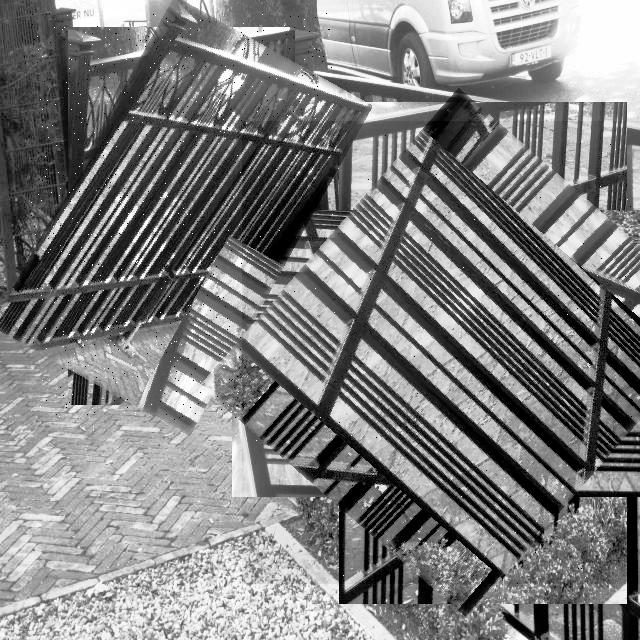fences: (242, 121, 640, 584), (30, 12, 333, 420)
